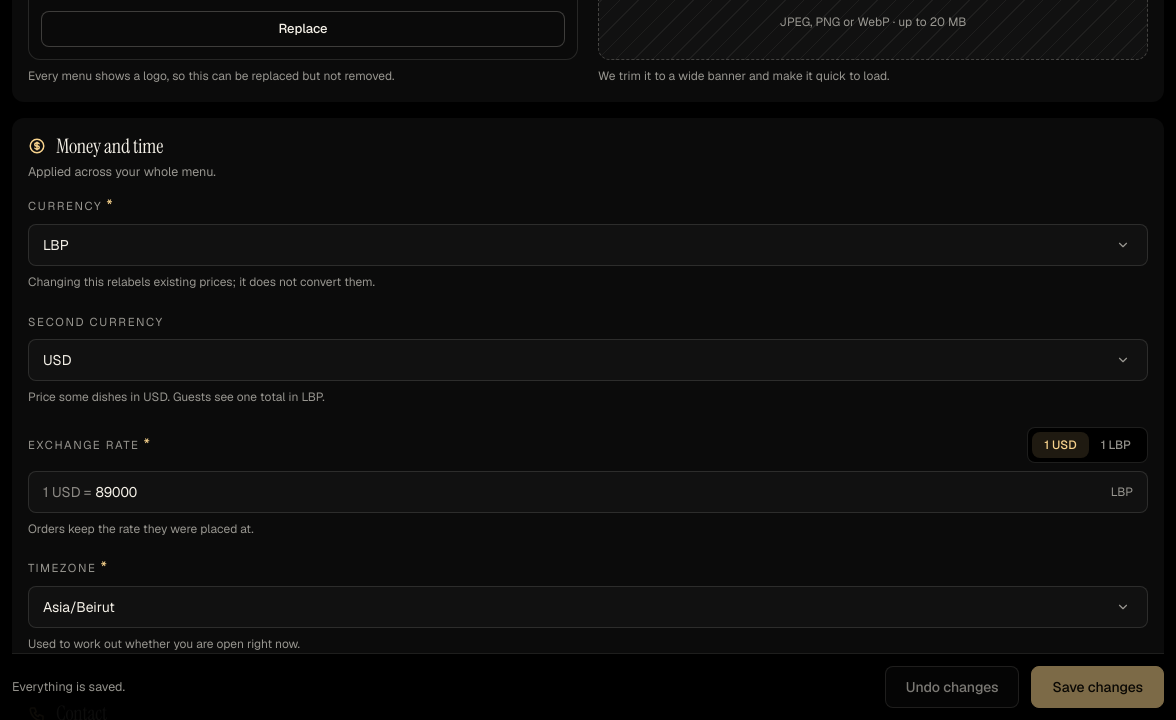
it: RestaurantPage › a second currency › says why the server keeps it: dishes are still priced in it
(page scrolled)
Click the dropdown labelled "Second currency": (588, 360) [29,340,1147,380]
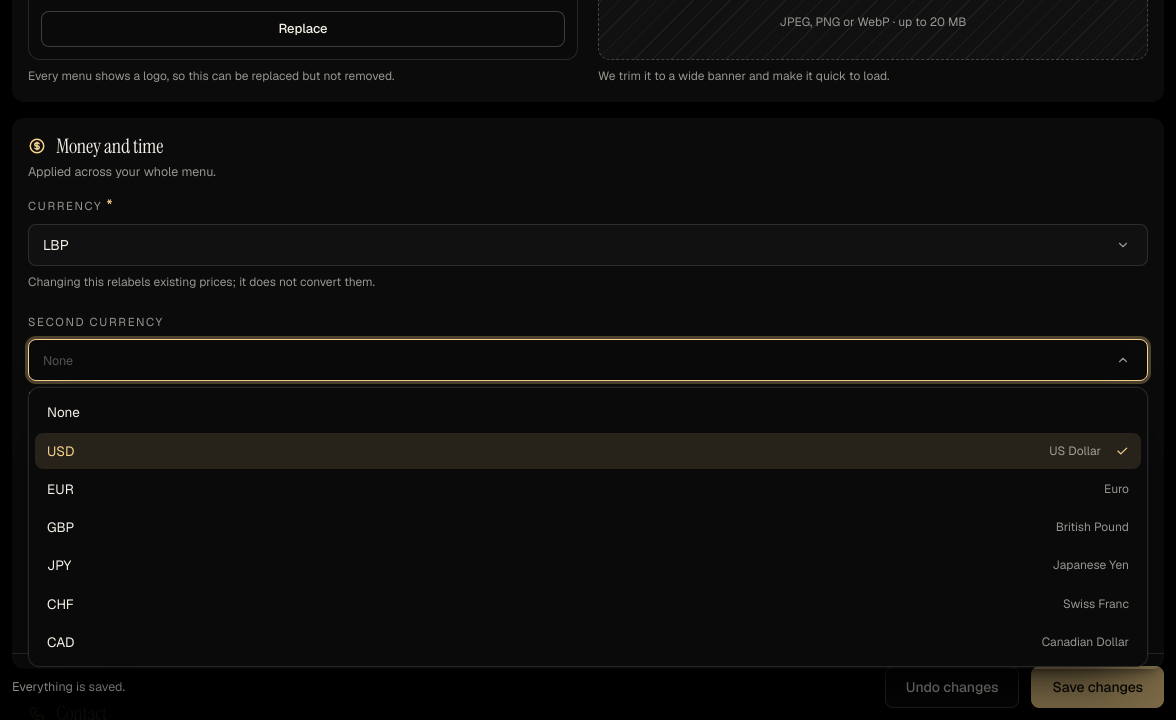
Click the option "None": (63, 412) [47,403,80,421]
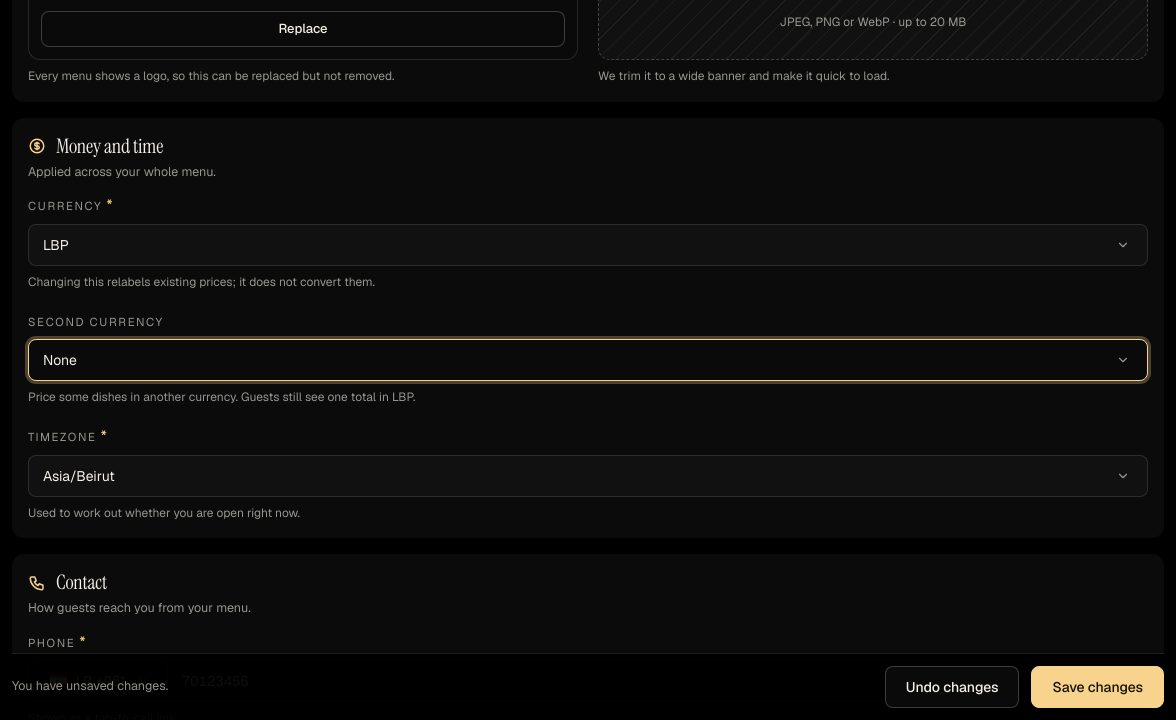
Click the button "Save changes": (1098, 687) [1032,666,1164,708]
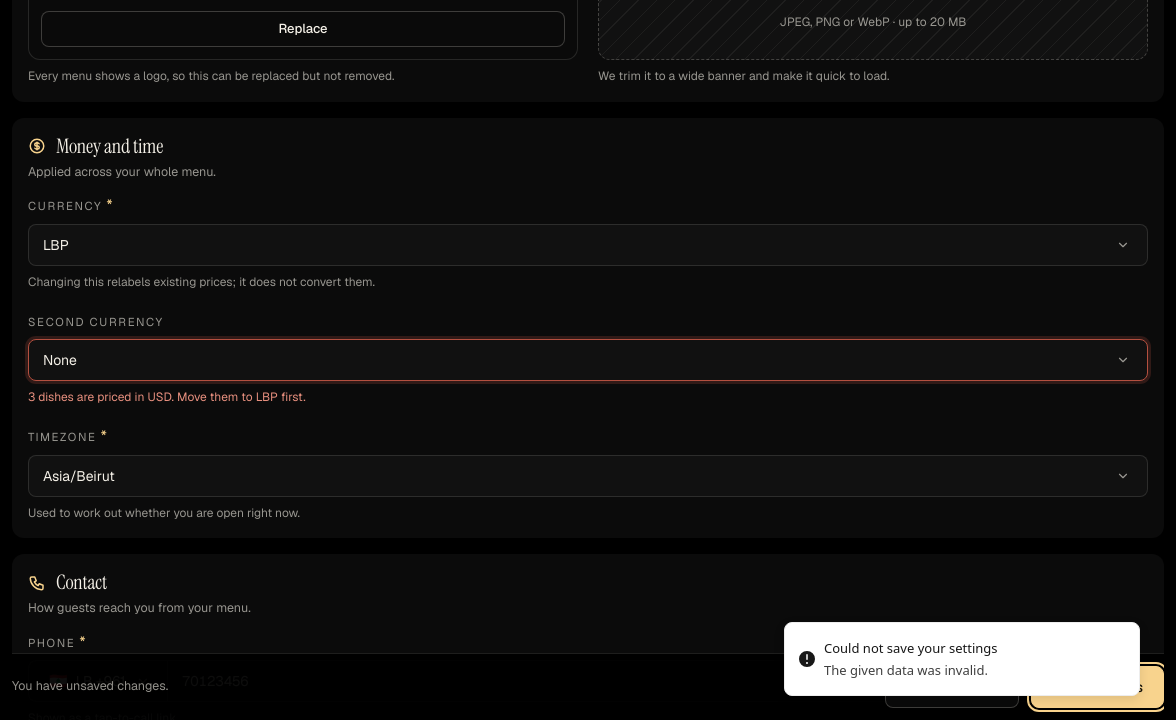
Expected: the text "3 dishes are priced in USD. Move them to LBP first." is shown, [28,389,306,407]
